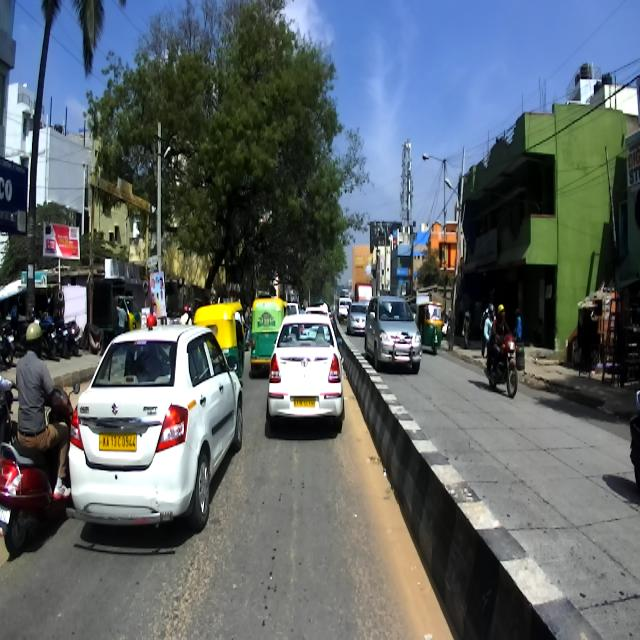car ahead at: (70, 319, 245, 542), (266, 315, 350, 440), (362, 290, 424, 372)
motorcycle ahead at: (2, 428, 61, 550)
